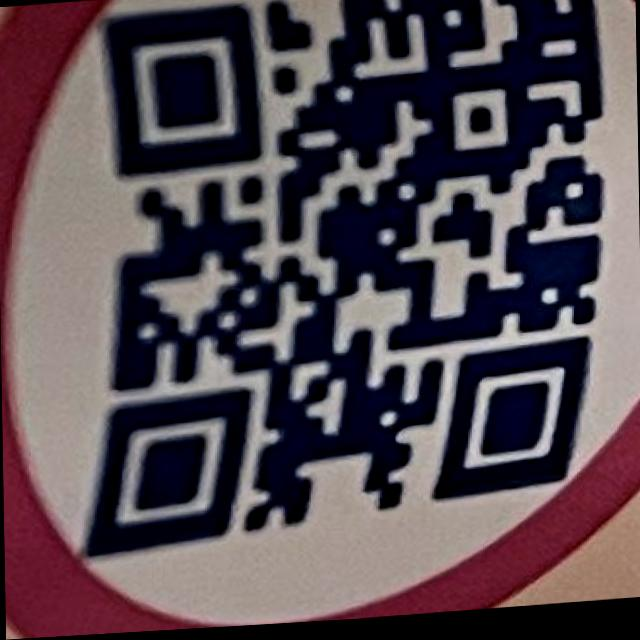QR_CODE: (66, 0, 604, 562)
